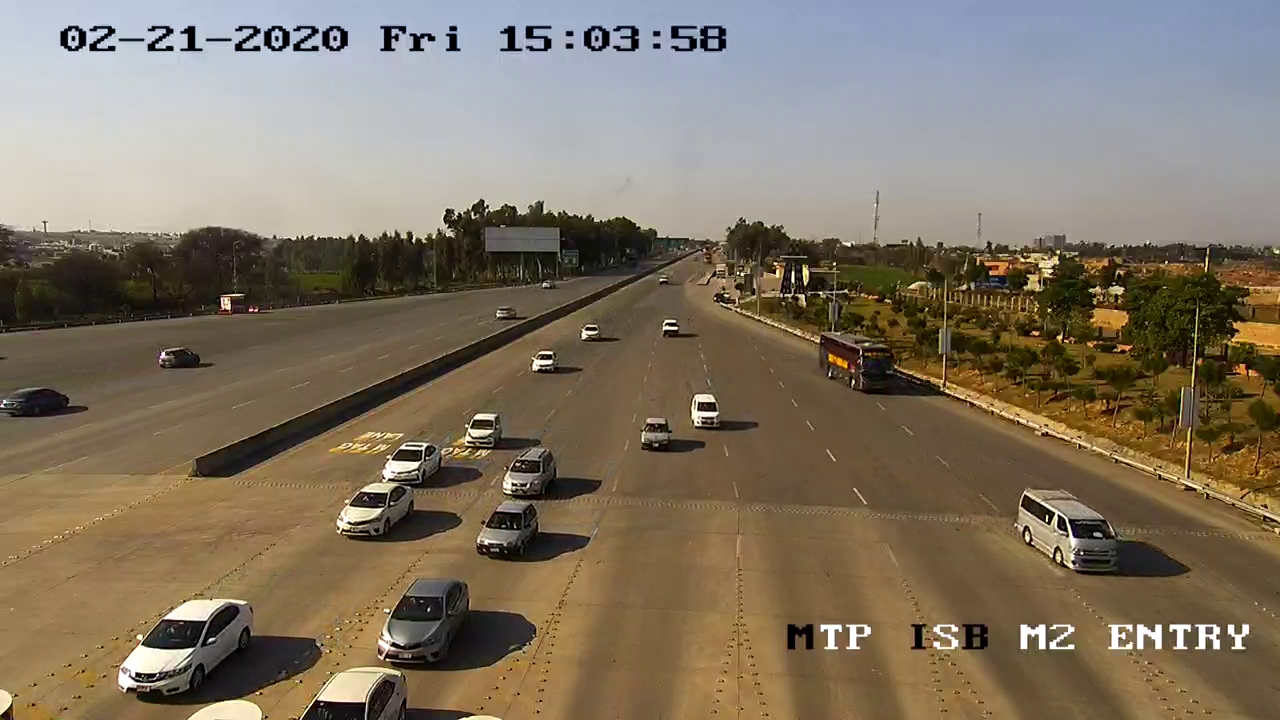f1: (97, 592, 259, 706), (371, 569, 478, 670), (325, 475, 420, 544), (466, 497, 545, 564), (498, 438, 566, 501), (374, 437, 451, 486), (629, 404, 680, 461), (680, 388, 731, 437), (459, 409, 506, 454)
f3: (1008, 477, 1139, 583)
f4: (813, 321, 909, 404)
